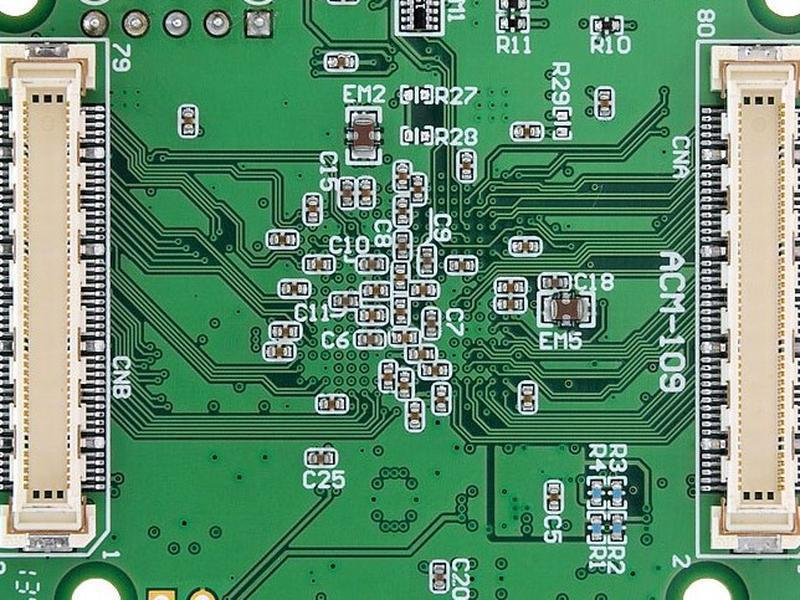SMD capacitor: (547, 298, 587, 328), (352, 113, 377, 158), (508, 235, 546, 256), (490, 279, 531, 298), (490, 296, 530, 314), (355, 253, 388, 274), (406, 402, 424, 435), (448, 255, 476, 274), (265, 343, 294, 360), (542, 272, 569, 290), (423, 307, 438, 339), (521, 382, 535, 413), (329, 293, 356, 309), (310, 453, 334, 466)
SMD resistor: (594, 16, 624, 36), (500, 15, 528, 35), (589, 514, 606, 546), (610, 480, 627, 509), (404, 86, 431, 103), (590, 480, 603, 508), (613, 511, 624, 540)
